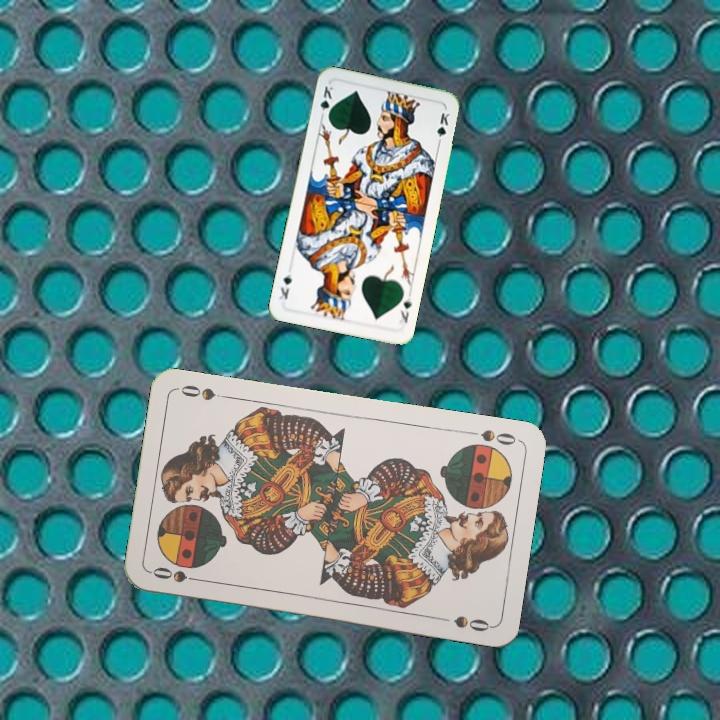GK: (316, 82, 335, 122), (395, 290, 414, 325)
SO: (147, 562, 206, 585), (462, 425, 521, 448)
